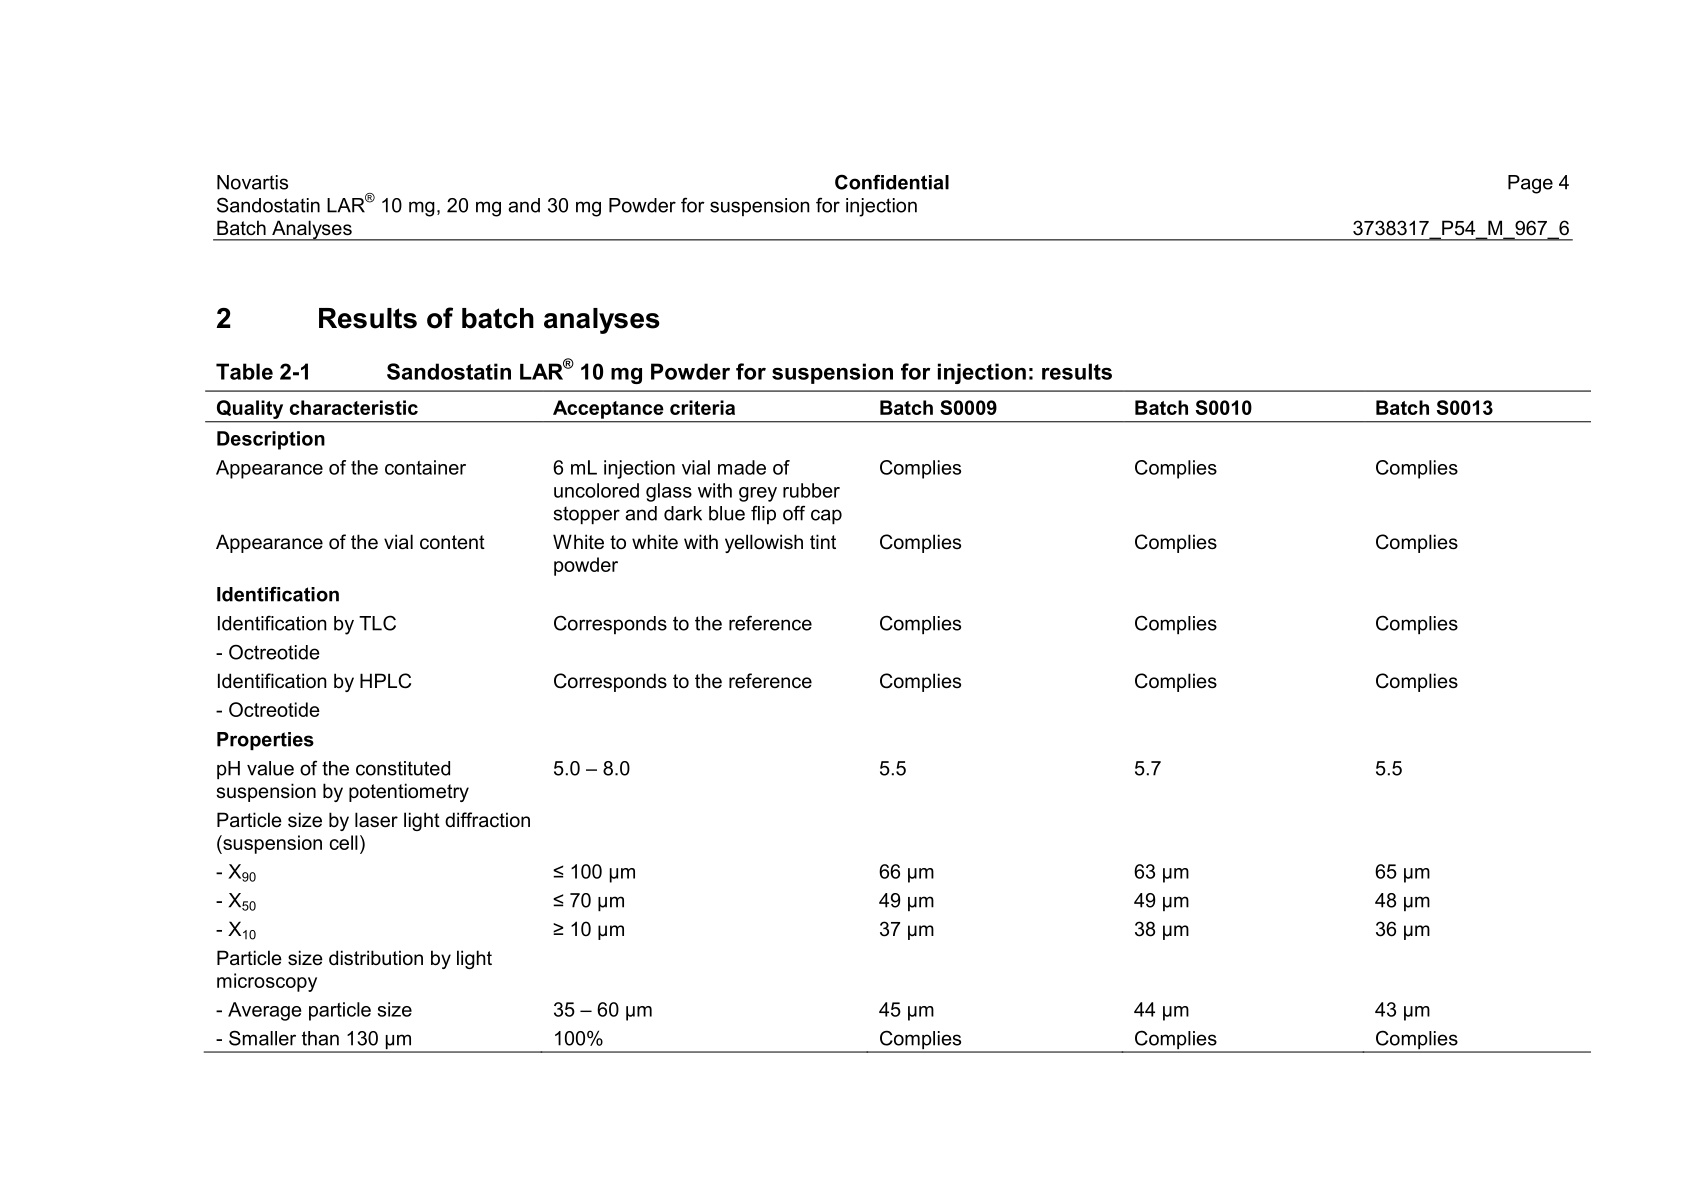partial_lined: (205, 389, 1589, 1056)
